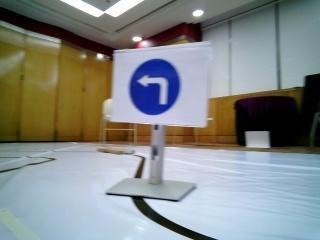left: (123, 53, 191, 123)
